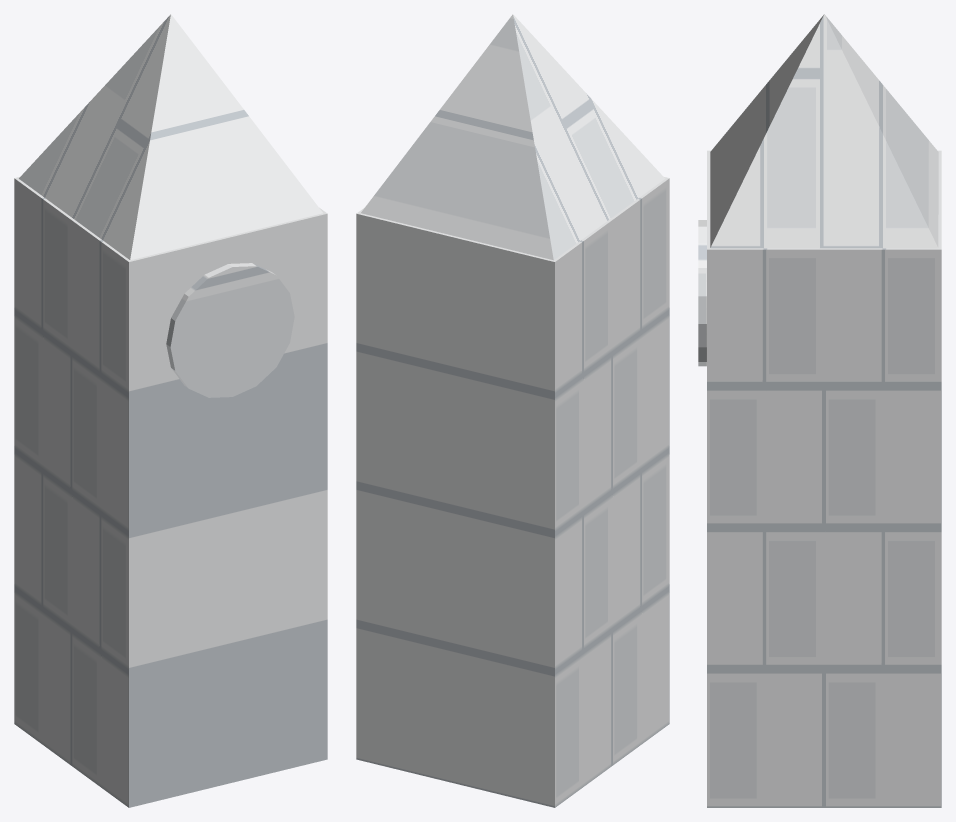
Rendered from building_clocktower.glb.
The picture shows the model from 3 angles, left to right: view 1: azimuth 30°, elevation 25°; view 2: azimuth 150°, elevation 25°; view 3: azimuth 270°, elevation 25°; orthographic projection. The views are drawn at different scales.
Parts seen in each view (by area): view 1: building_clocktower; view 2: building_clocktower; view 3: building_clocktower.
Part boxes in pixels (box(x1,y1,x2,y2)): building_clocktower: box(14, 14, 327, 807); building_clocktower: box(356, 14, 669, 807); building_clocktower: box(698, 14, 941, 807).
Size of the model in its own units: 1.6 by 5.6 by 1.66.
1 material, 1 textured.
